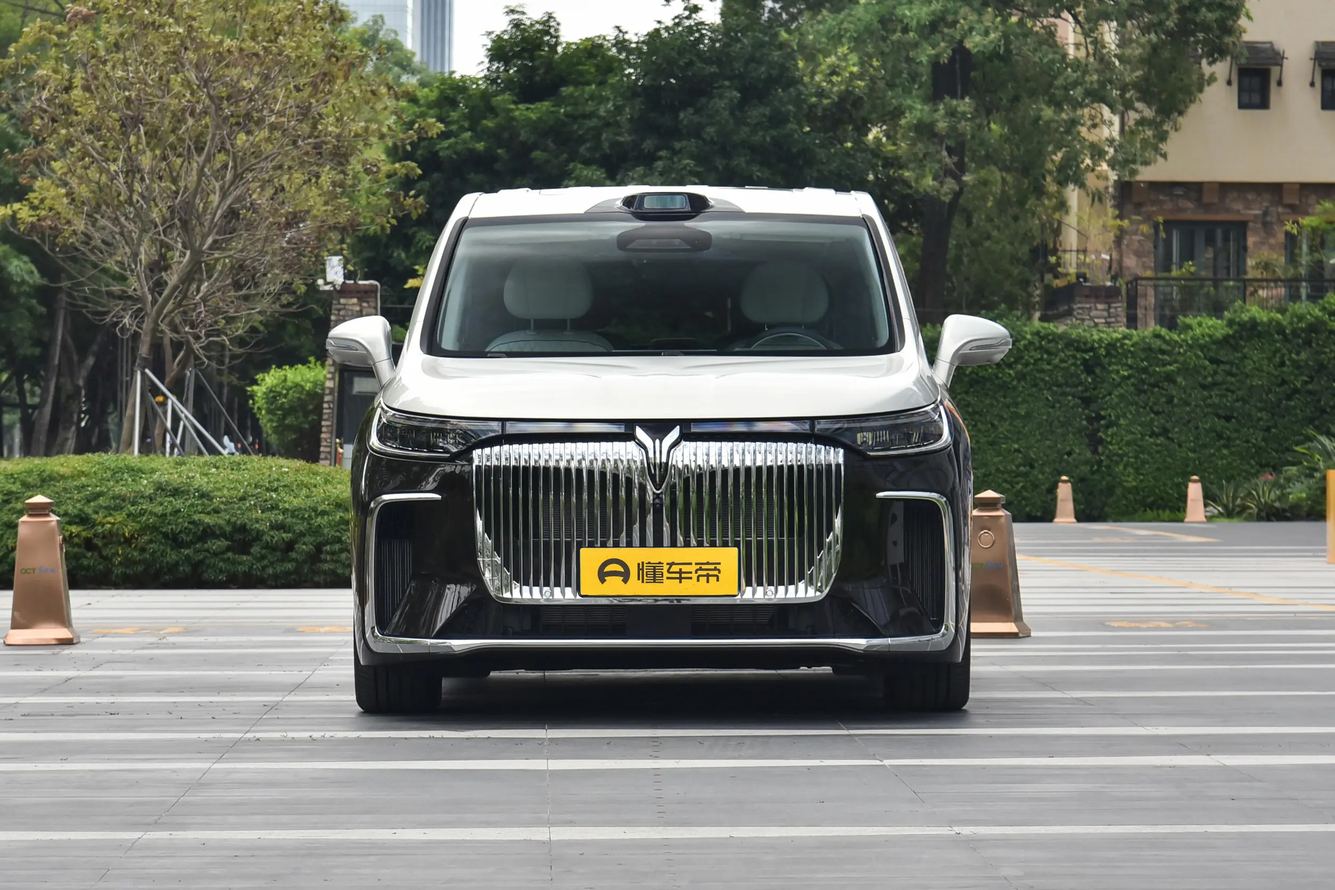VOYAH: (636, 426, 679, 482)
